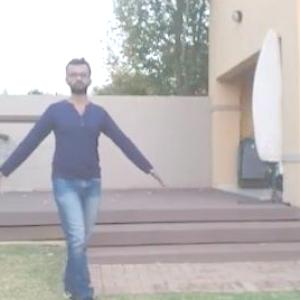land: (3, 67, 154, 298)
